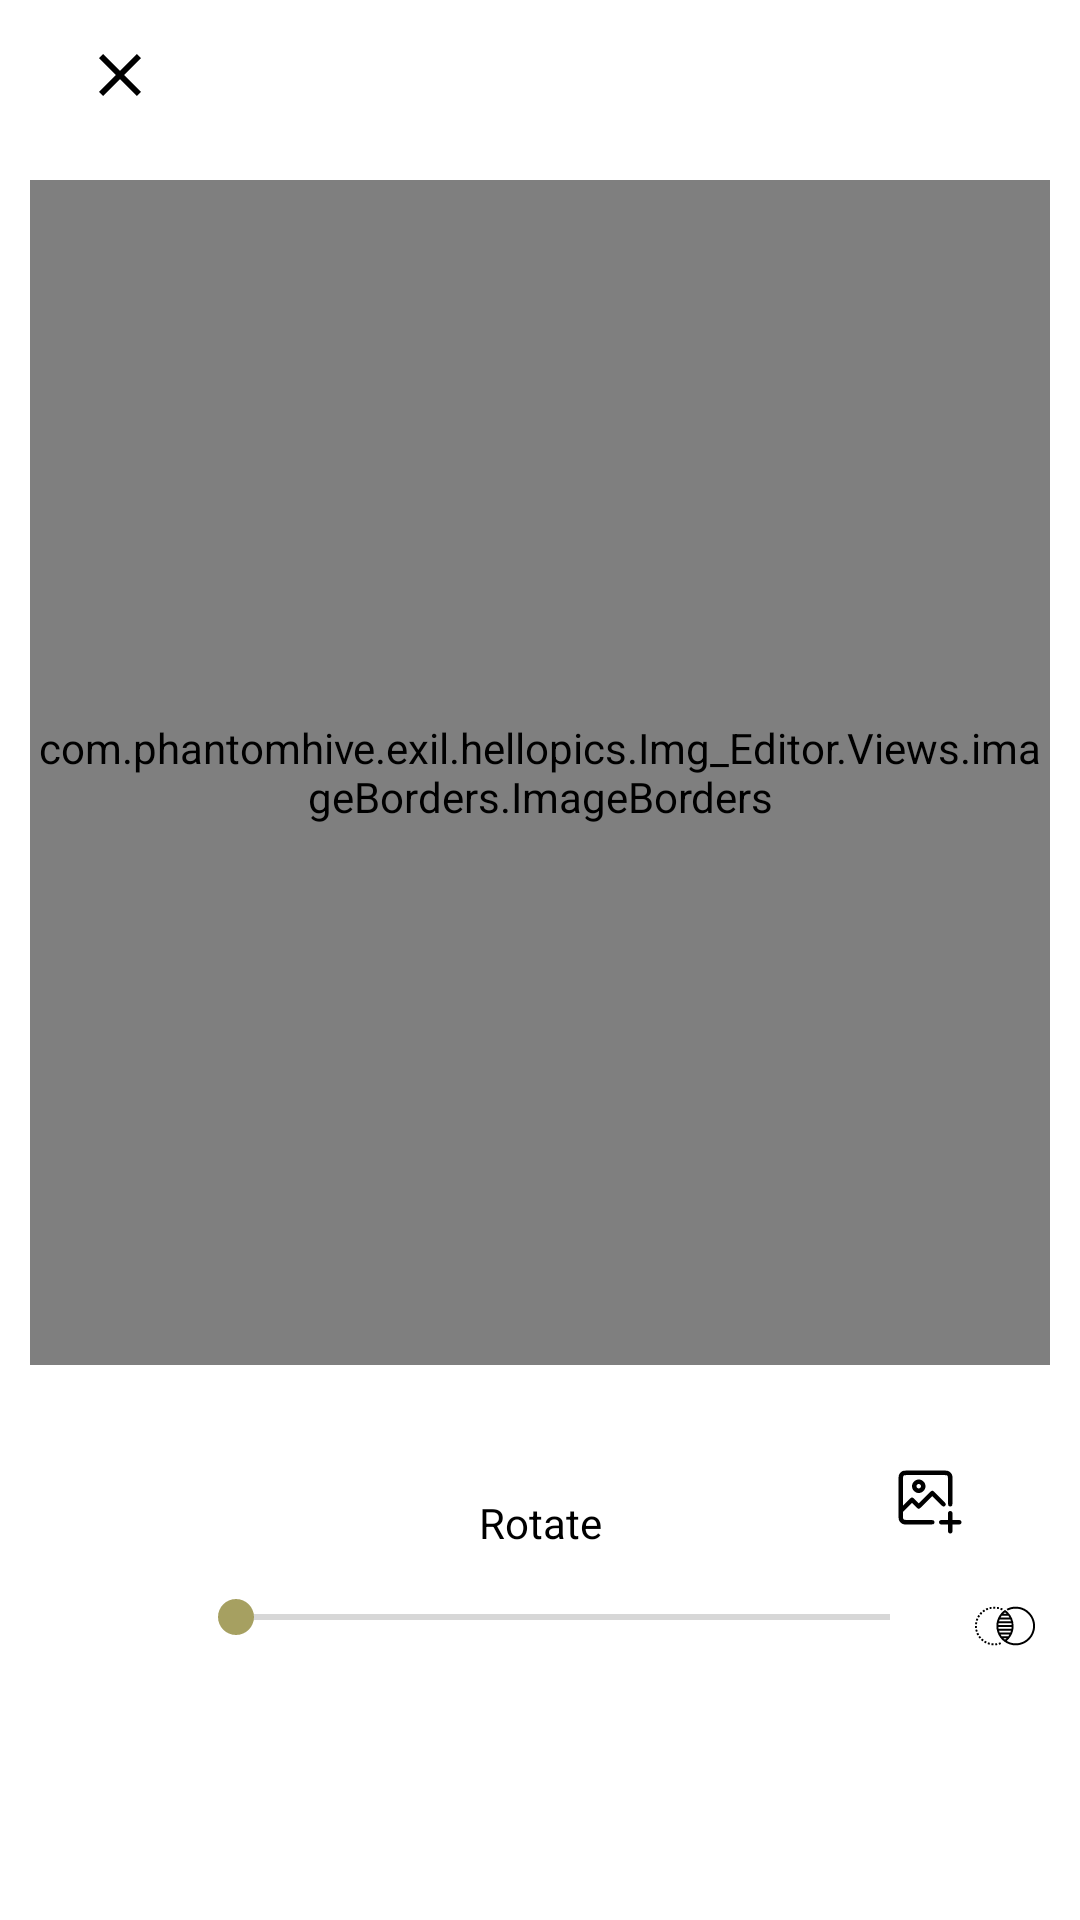

Icons on this 1080px×1920px Android screen, each with the point to tap as [x,y]:
add: [930,1502]
close: [120,75]
merge: [1005,1626]
